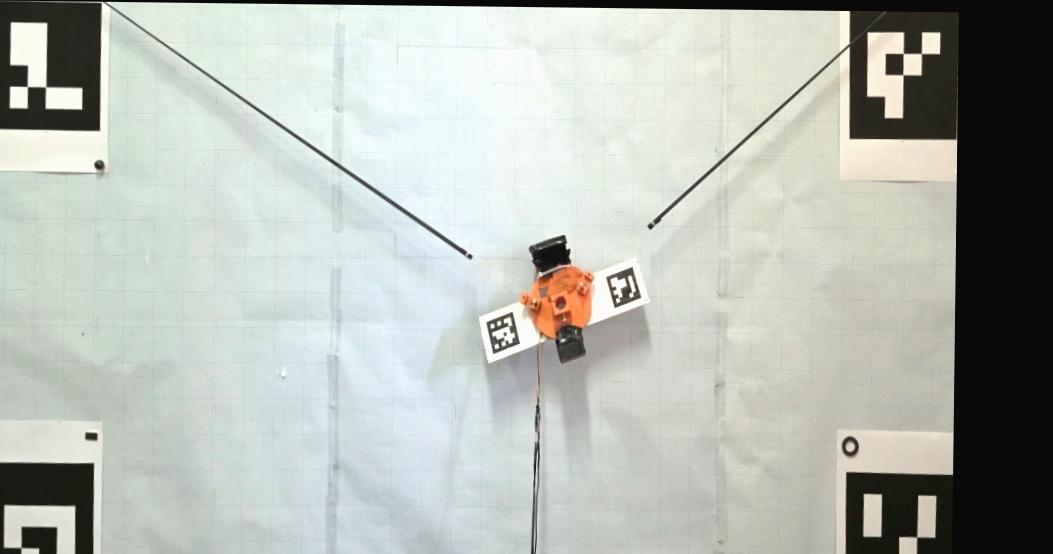robot: (519, 235, 597, 365)
